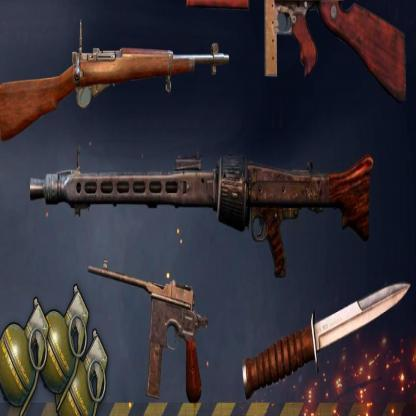Grenade: (37, 282, 90, 413), (0, 296, 50, 416), (55, 327, 110, 416)
Gun: (30, 143, 375, 278), (0, 18, 231, 143), (186, 1, 408, 103)
Knife: (242, 281, 412, 401)
Pistol: (87, 256, 209, 404)
